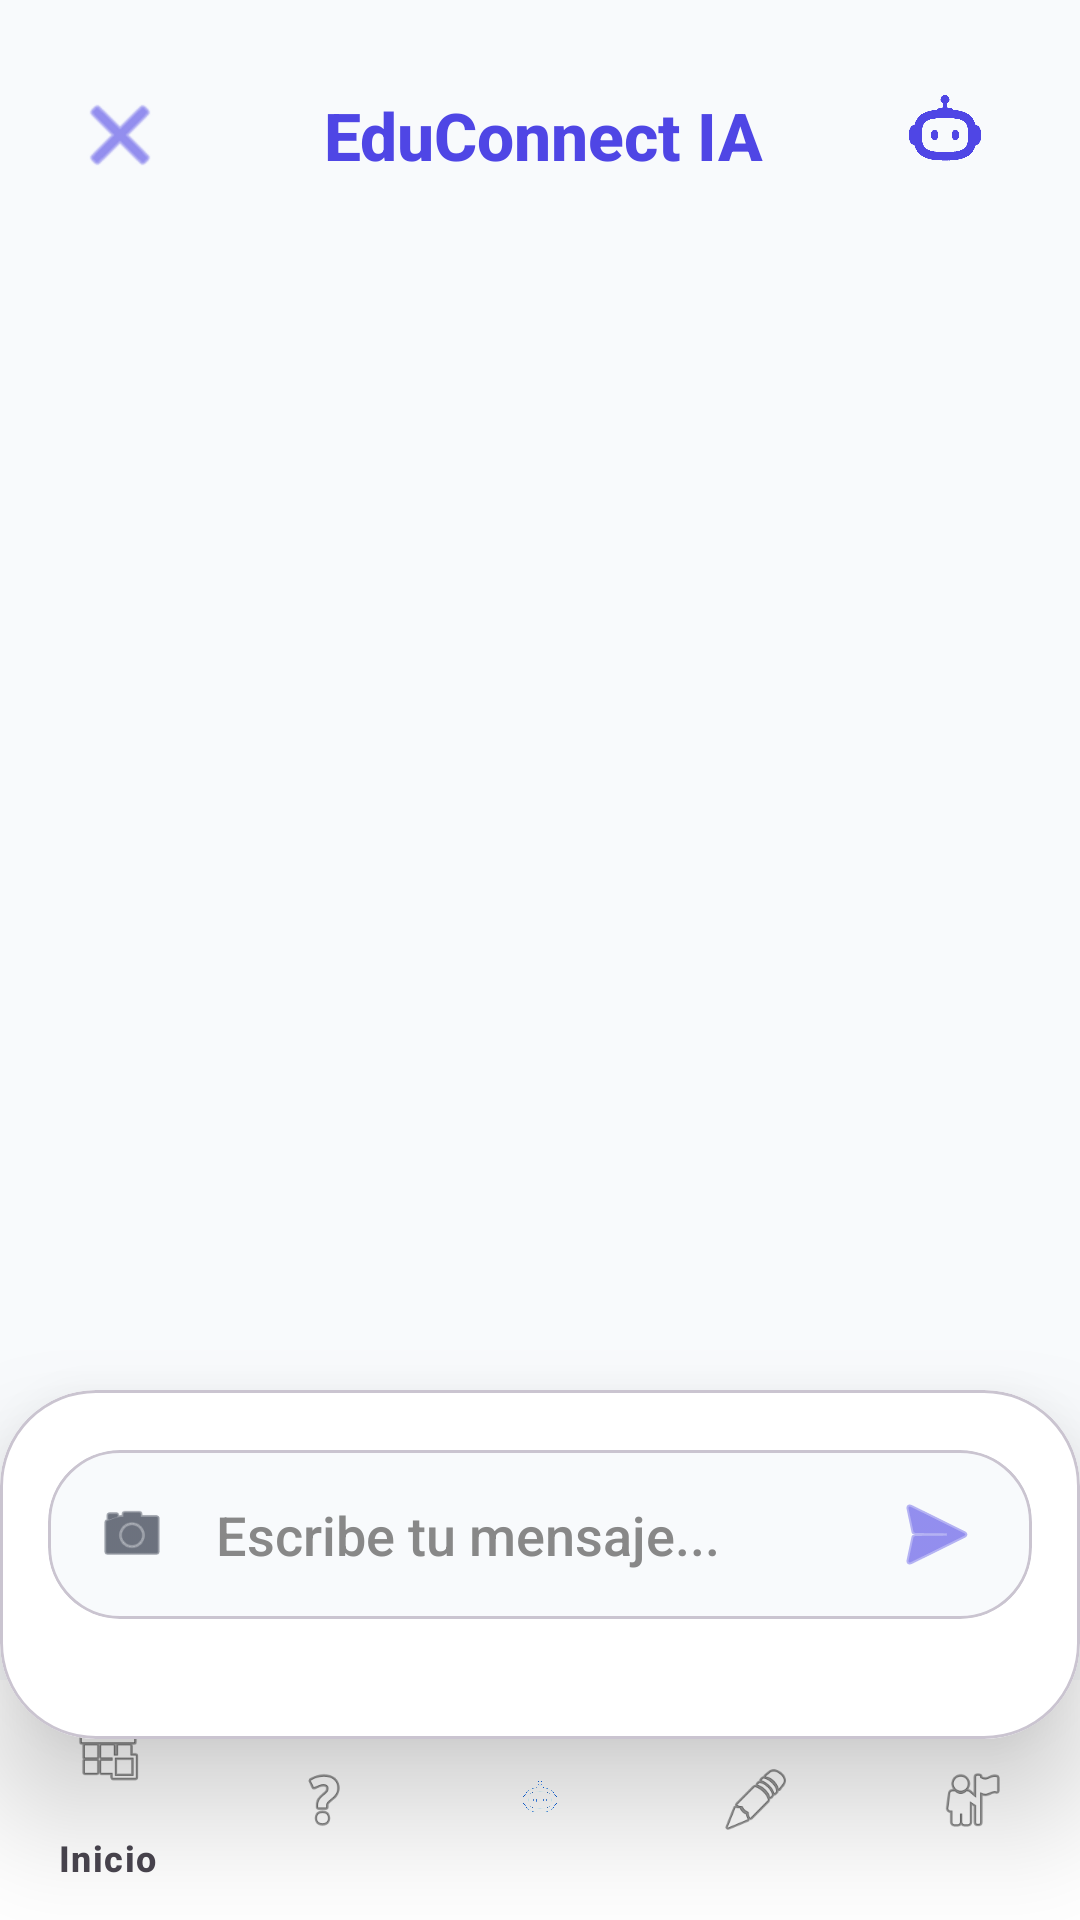

Named icons in this screenshot (1080w x 1920h) and their centers, (x=x, y=y):
camera: (x=132, y=1533)
close clear cancel: (x=120, y=135)
robot: (x=945, y=128)
send: (x=936, y=1534)
